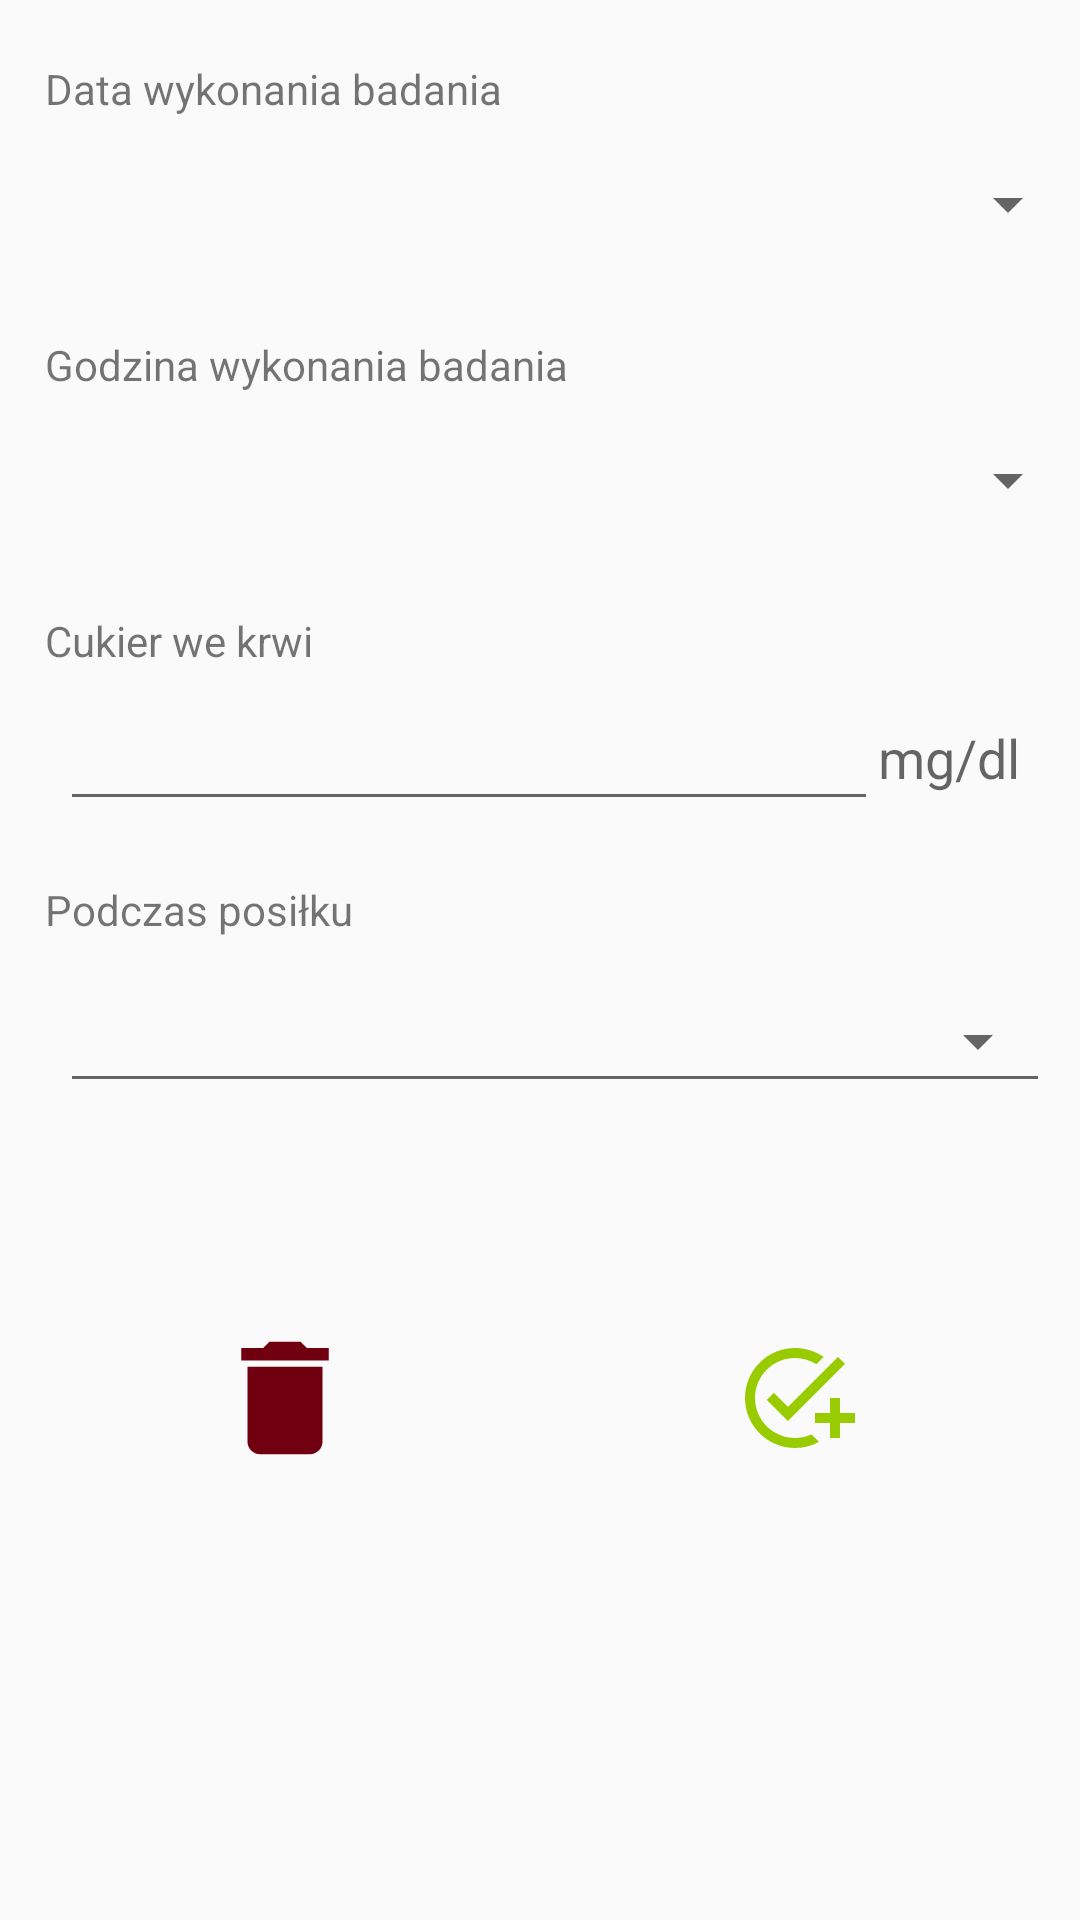

Where icons sit on this 1080 x 1920 app screen, as (x1, y1, x2, y2):
add result: (745, 1348, 855, 1448)
delete: (241, 1341, 329, 1455)
